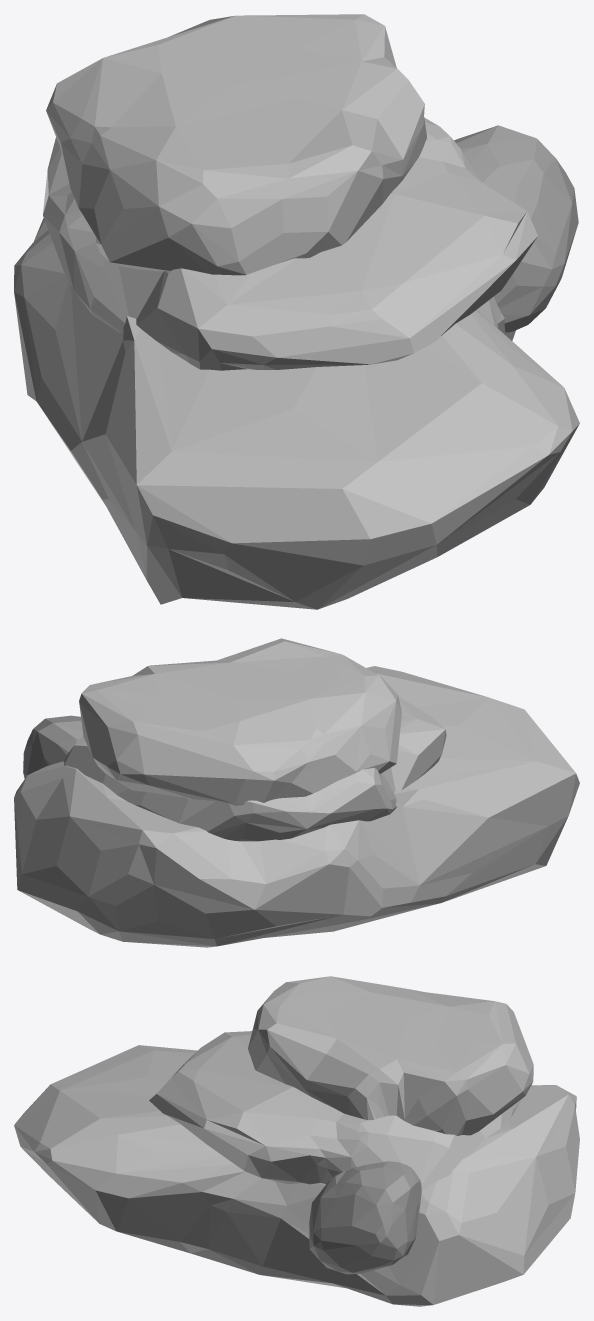
Rendered from Rock_035.glb.
The picture shows the model from 3 angles, top to bottom: view 1: azimuth 30°, elevation 25°; view 2: azimuth 150°, elevation 25°; view 3: azimuth 270°, elevation 25°; orthographic projection. The views are drawn at different scales.
Visible parts, largest first — view 1: Rock_035; view 2: Rock_035; view 3: Rock_035.
Boxes of the visible parts, x1=… form: Rock_035: x1=14, y1=14, x2=579, y2=609; Rock_035: x1=14, y1=638, x2=579, y2=947; Rock_035: x1=14, y1=976, x2=579, y2=1306.
Bounding box in the file's own units: 3.5 × 1.84 × 4.14.
Materials: 1 (1 with a texture image).
